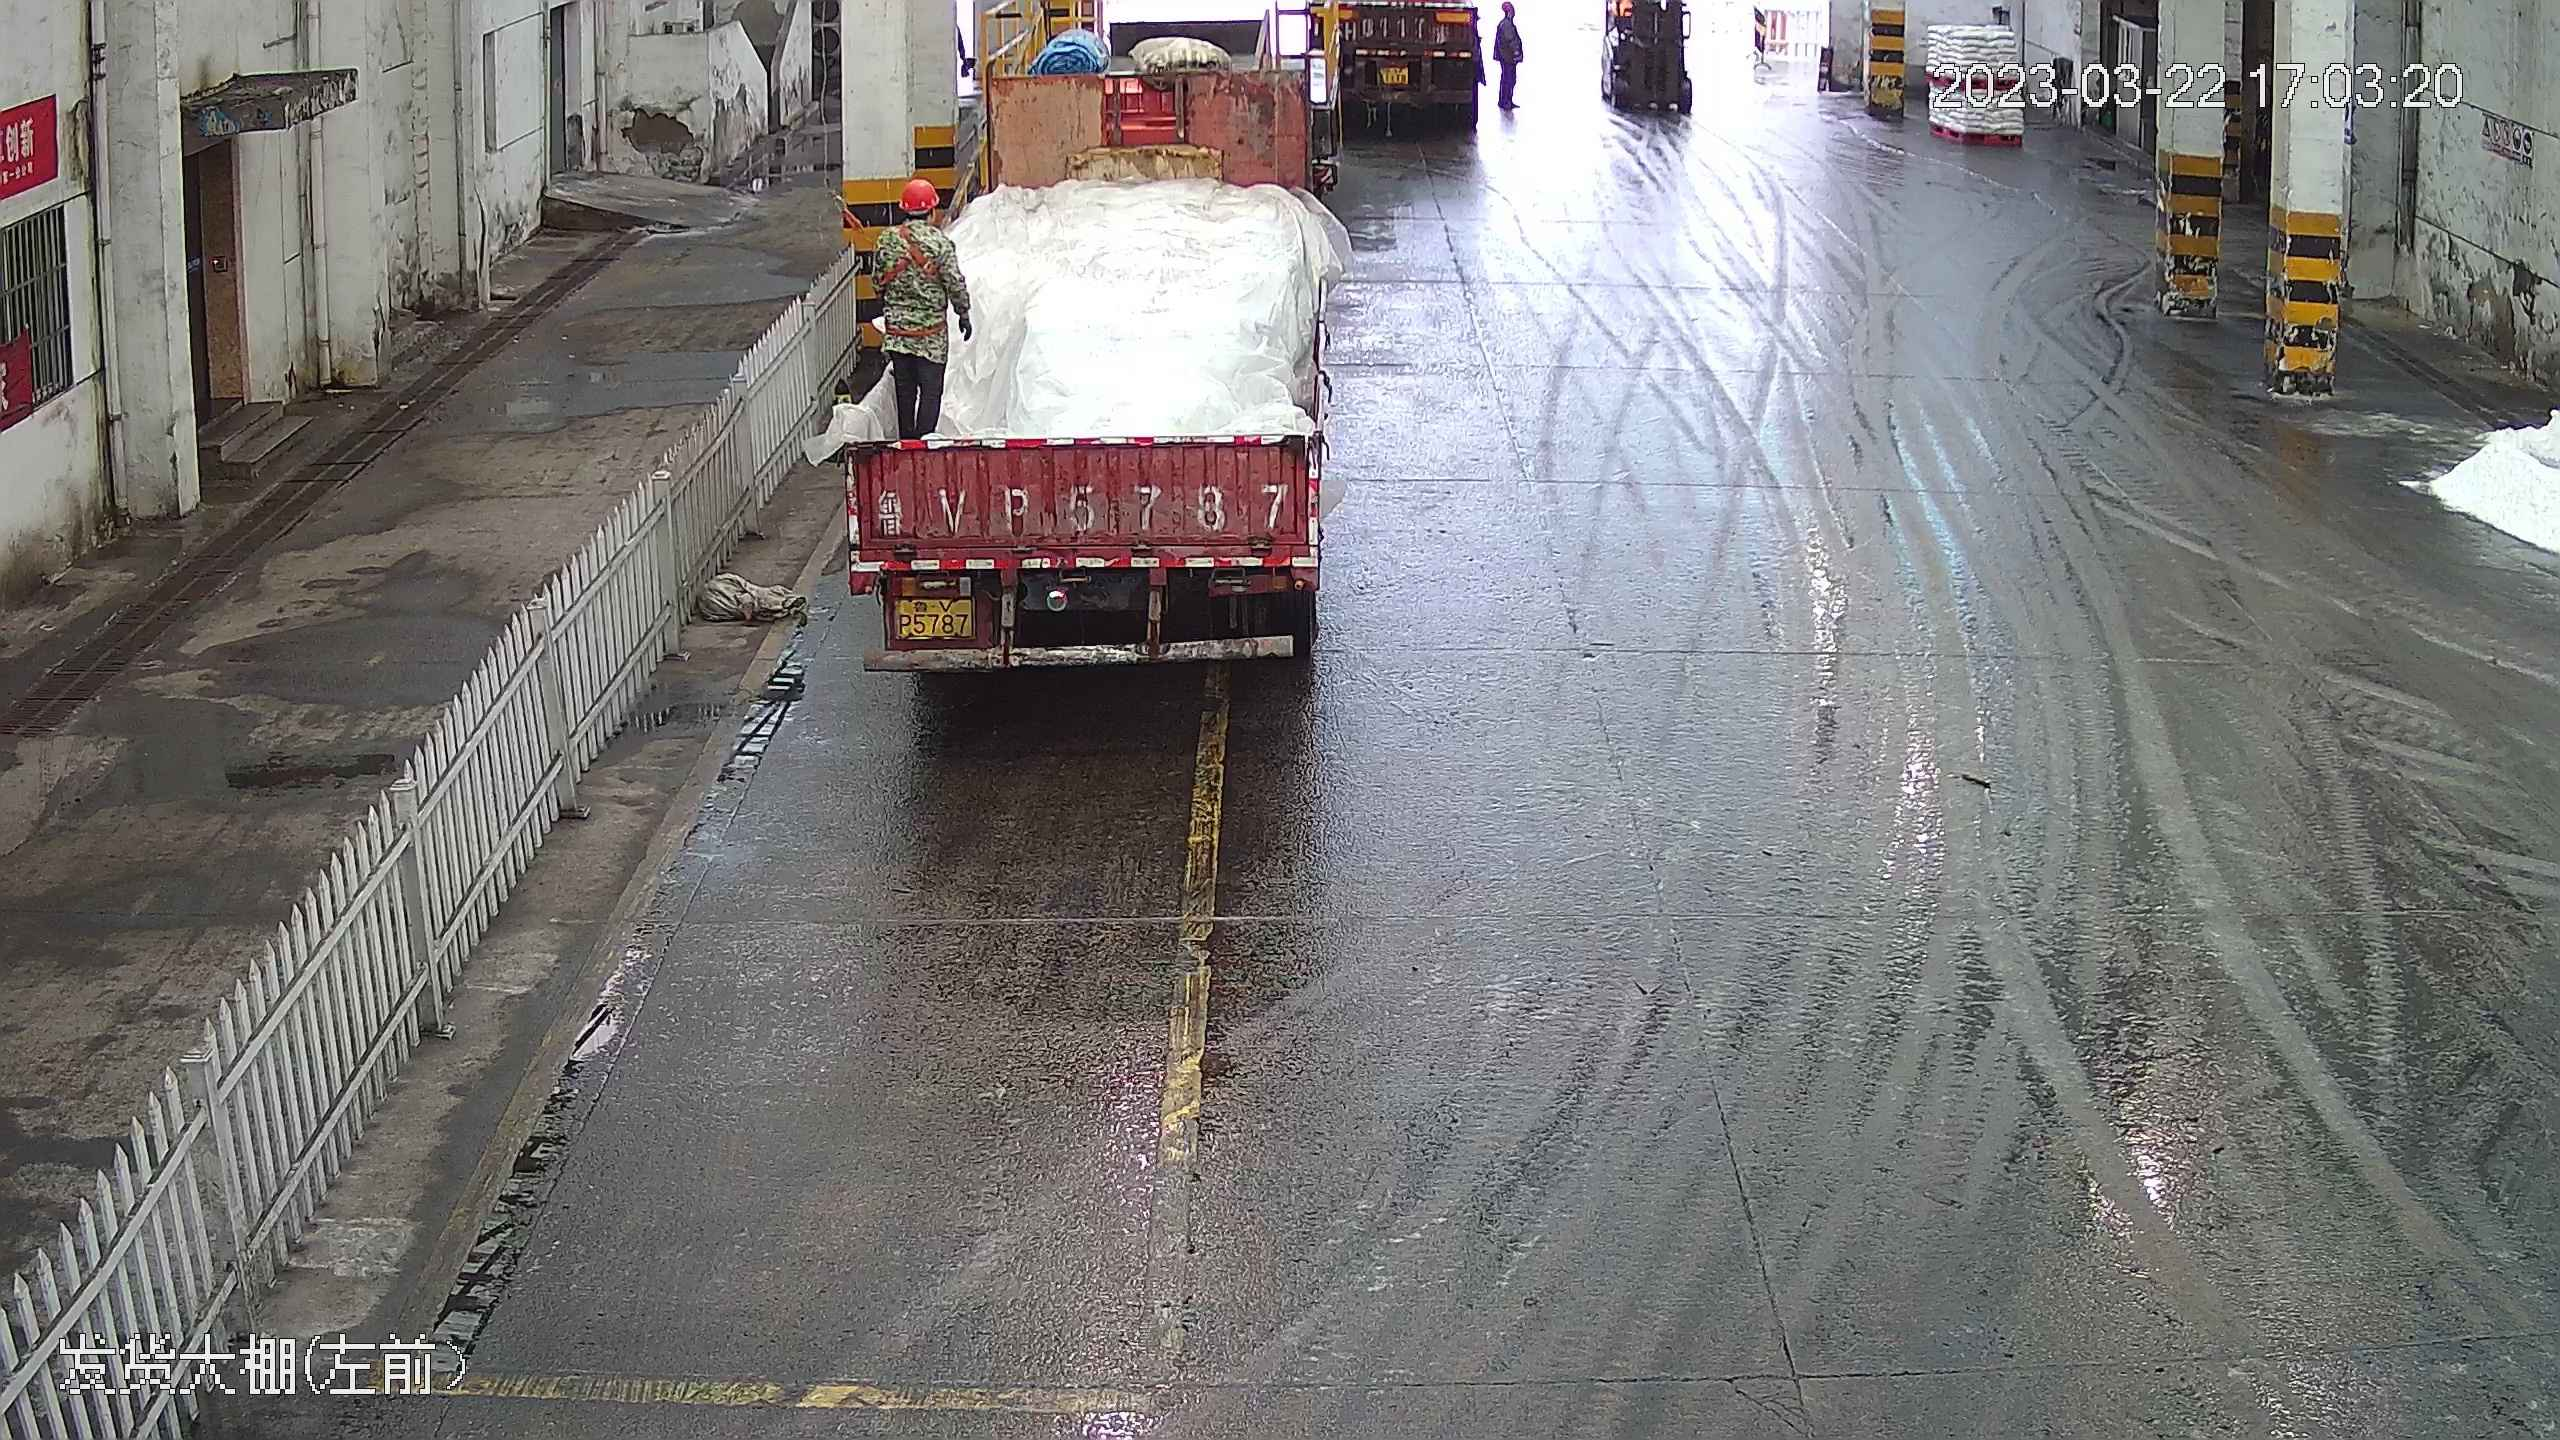belt: (871, 223, 936, 282)
head: (868, 178, 957, 264), (1493, 3, 1524, 34)
helmet: (898, 177, 942, 206), (1498, 2, 1514, 14)
people: (844, 170, 976, 446), (1494, 7, 1527, 115)
truck: (833, 18, 1351, 679)
